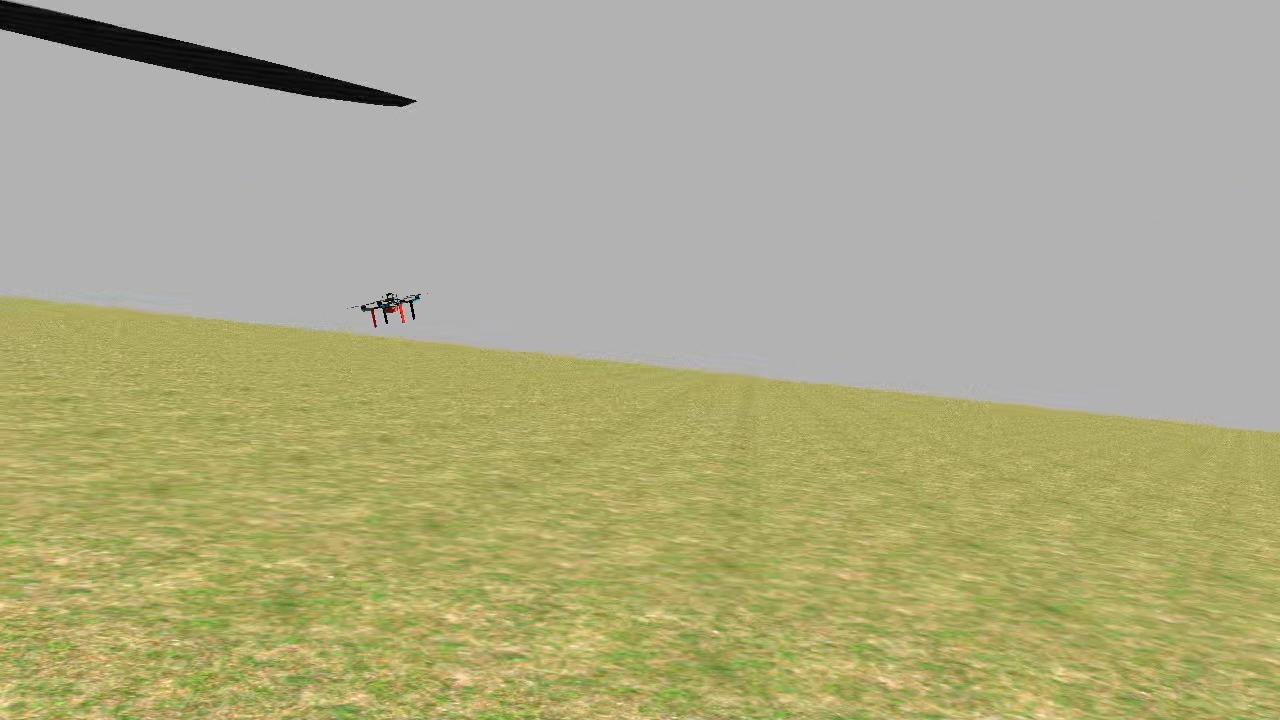UAV: (351, 284, 421, 336)
